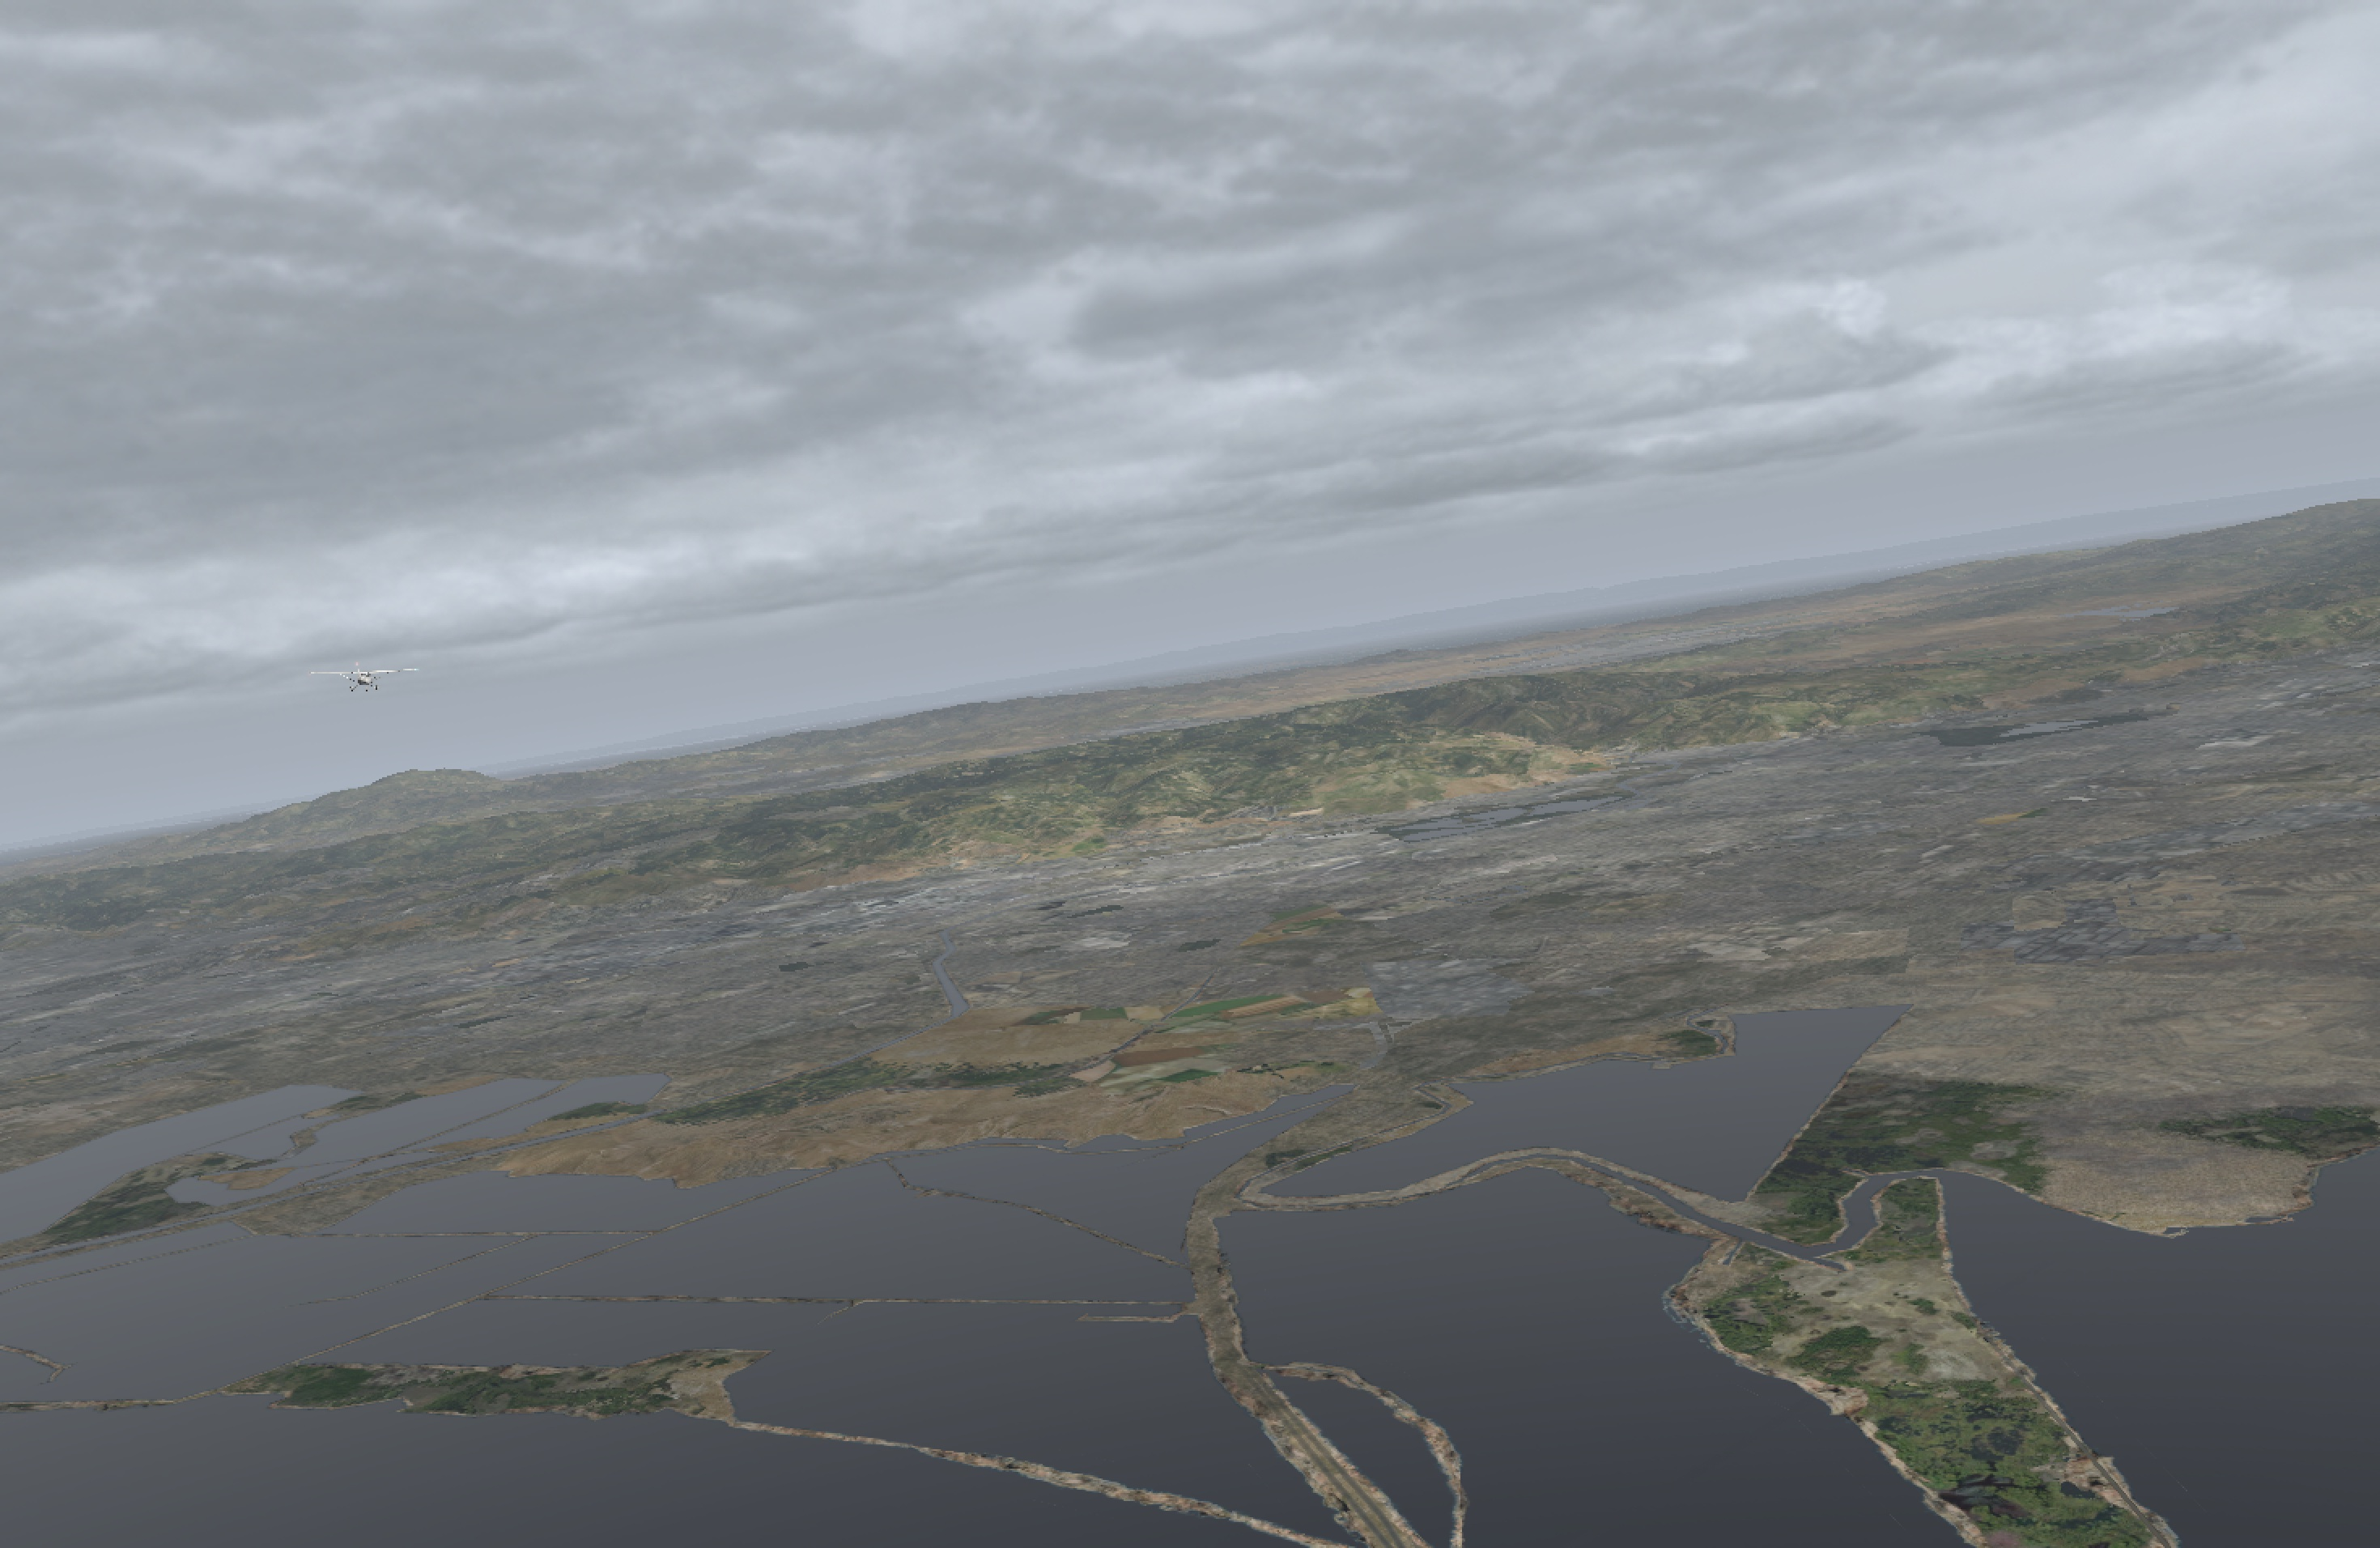aircraft: (330, 665, 399, 691)
